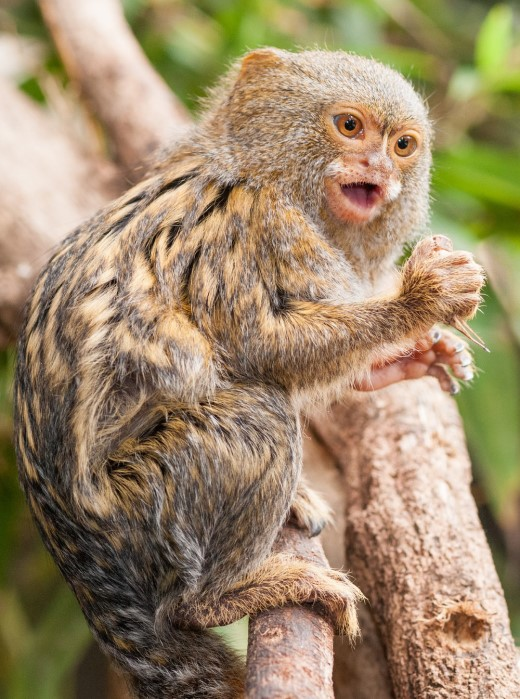PygmyMarmoset: (47, 58, 424, 607)
